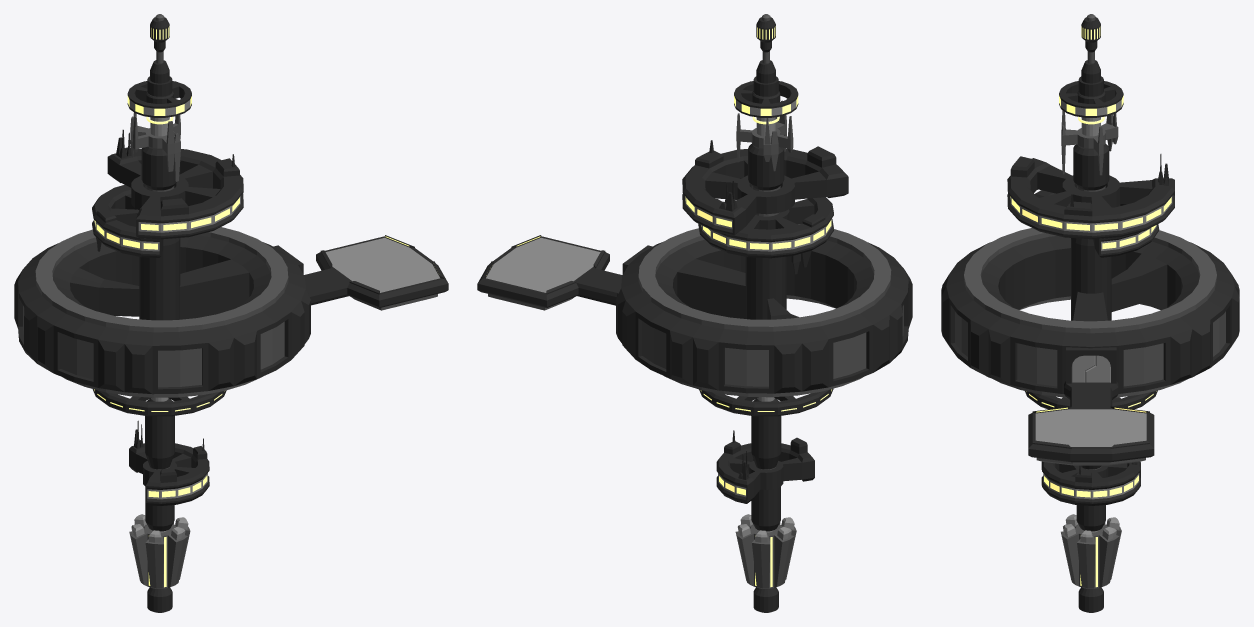
File: Cosmic Cargo Space Station.glb
3 renders of one model, left to right at view 1: azimuth 30°, elevation 25°; view 2: azimuth 150°, elevation 25°; view 3: azimuth 270°, elevation 25°, orthographic.
Parts seen in each view (by area): view 1: Station Scaled for HexaTower; view 2: Station Scaled for HexaTower; view 3: Station Scaled for HexaTower.
Boxes of the visible parts, box(x1,y1,x2,y2) form: Station Scaled for HexaTower: box(14, 14, 448, 612); Station Scaled for HexaTower: box(477, 14, 912, 612); Station Scaled for HexaTower: box(941, 14, 1239, 612).
Bounding box in the file's own units: 1.19 × 1.71 × 0.7759.
Materials: 1 (1 with a texture image).
